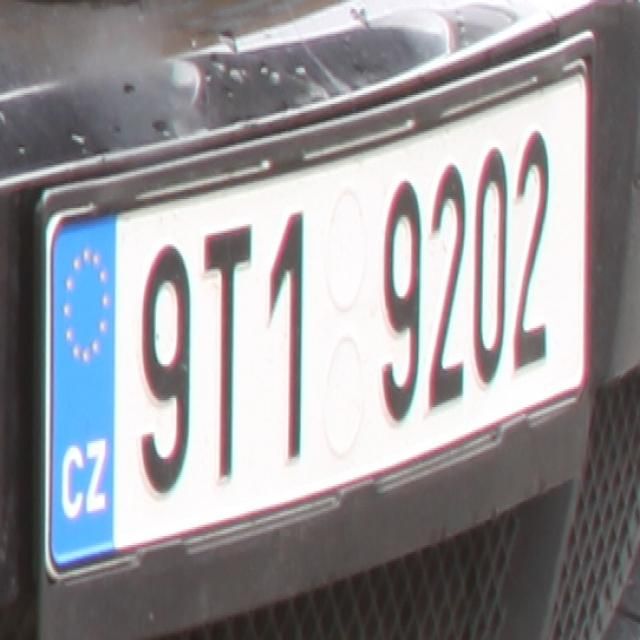0: (472, 145, 508, 382)
1: (266, 204, 304, 462)
2: (428, 163, 467, 416), (514, 131, 549, 369)
9: (139, 242, 194, 495), (382, 174, 421, 425)
T: (202, 226, 251, 482)
